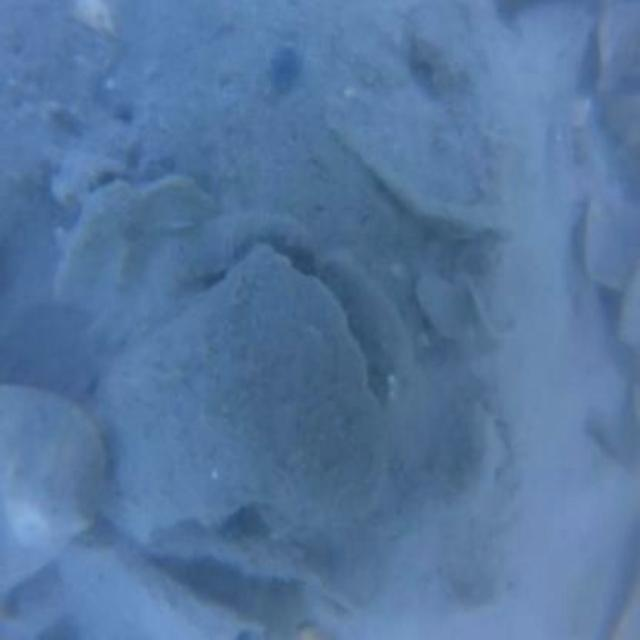Oyster-Closed: (88, 246, 376, 534), (334, 0, 561, 241), (0, 382, 101, 597)
Oyster-Open: (59, 521, 358, 640)
